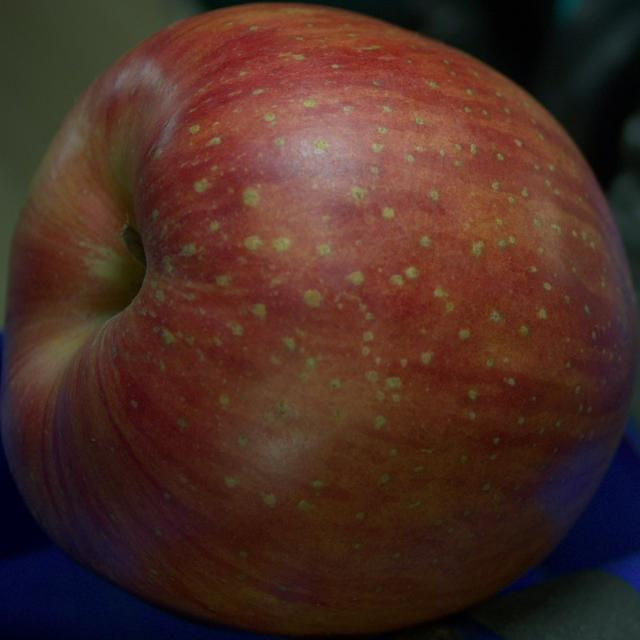apple: (0, 4, 639, 635)
